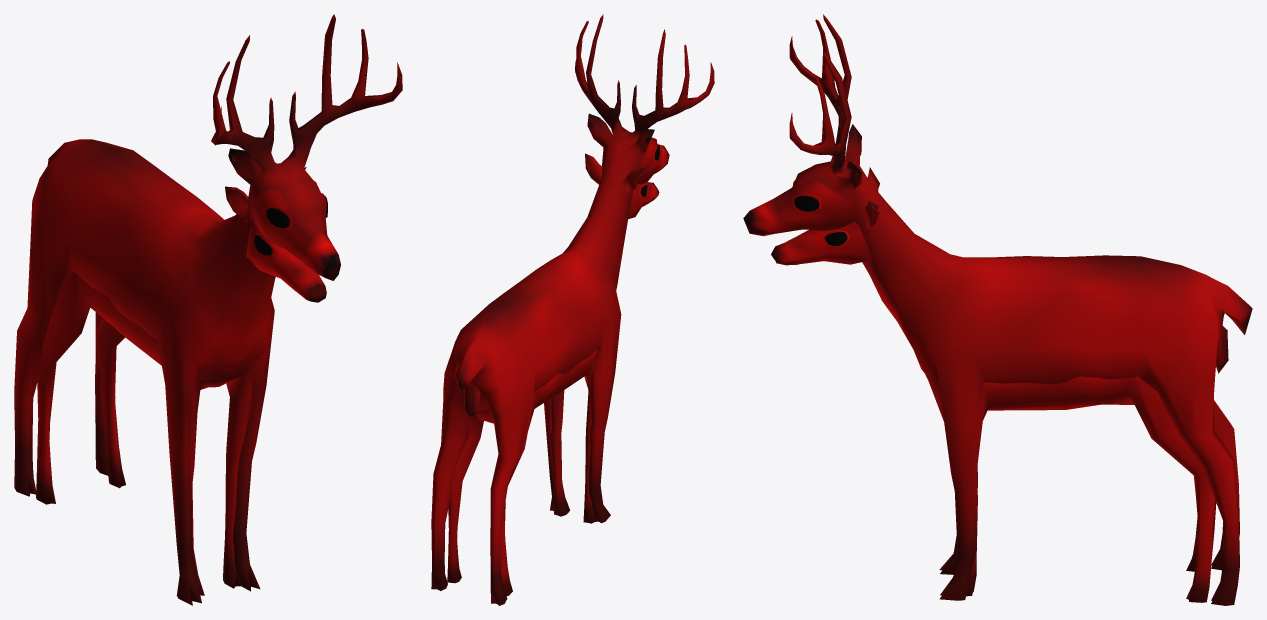
Rendered from Animals_Deer.fbx.
The picture shows the model from 3 angles, left to right: view 1: azimuth 30°, elevation 25°; view 2: azimuth 150°, elevation 25°; view 3: azimuth 270°, elevation 25°; orthographic projection. The views are drawn at different scales.
Parts seen in each view (by area): view 1: alt584, alt585; view 2: alt584, alt585; view 3: alt584, alt585.
Part boxes in pixels (x1,y1,x2,y2): alt584: [14, 14, 402, 605]; alt585: [36, 167, 326, 595]; alt584: [431, 14, 714, 605]; alt585: [447, 153, 659, 596]; alt584: [743, 14, 1252, 605]; alt585: [771, 167, 1228, 602].
Bounding box in the file's own units: 69.6 × 221 × 184.
